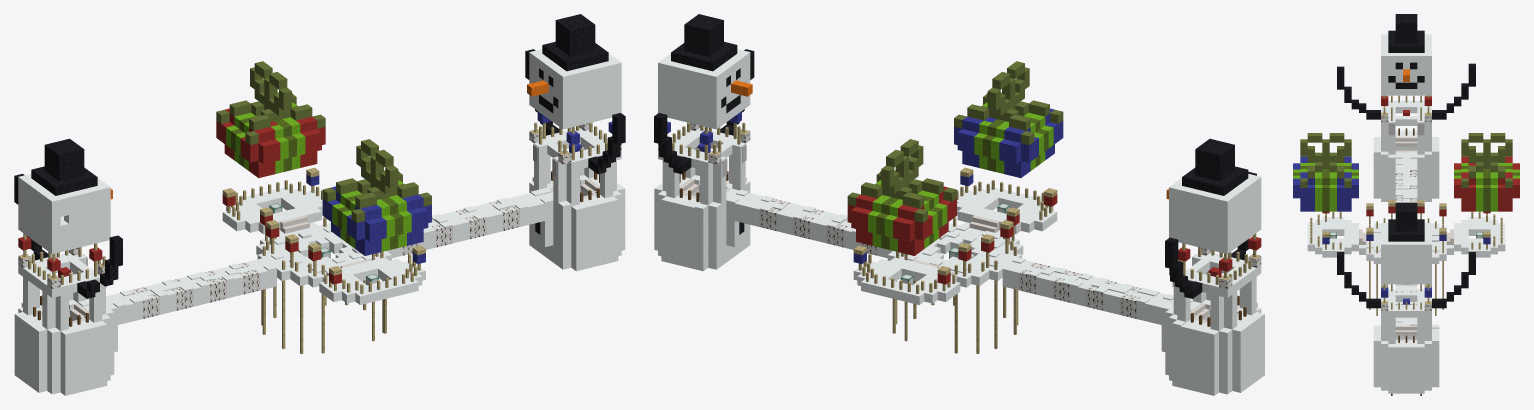
Rendered from minecraft.obj.
3 views of the same model, side by side, from view 1: azimuth 30°, elevation 25°; view 2: azimuth 150°, elevation 25°; view 3: azimuth 270°, elevation 25° (orthographic). The views are drawn at different scales.
Size of the model in its own units: 70 by 29 by 31.
